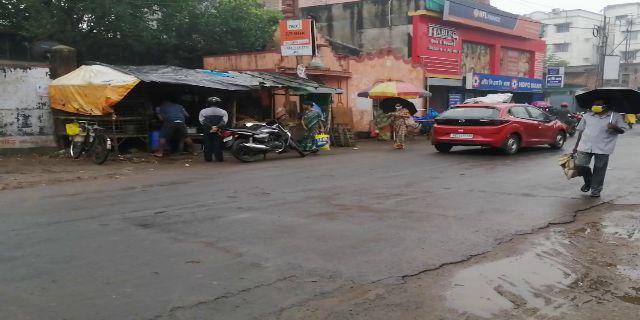Car: (432, 103, 568, 160)
